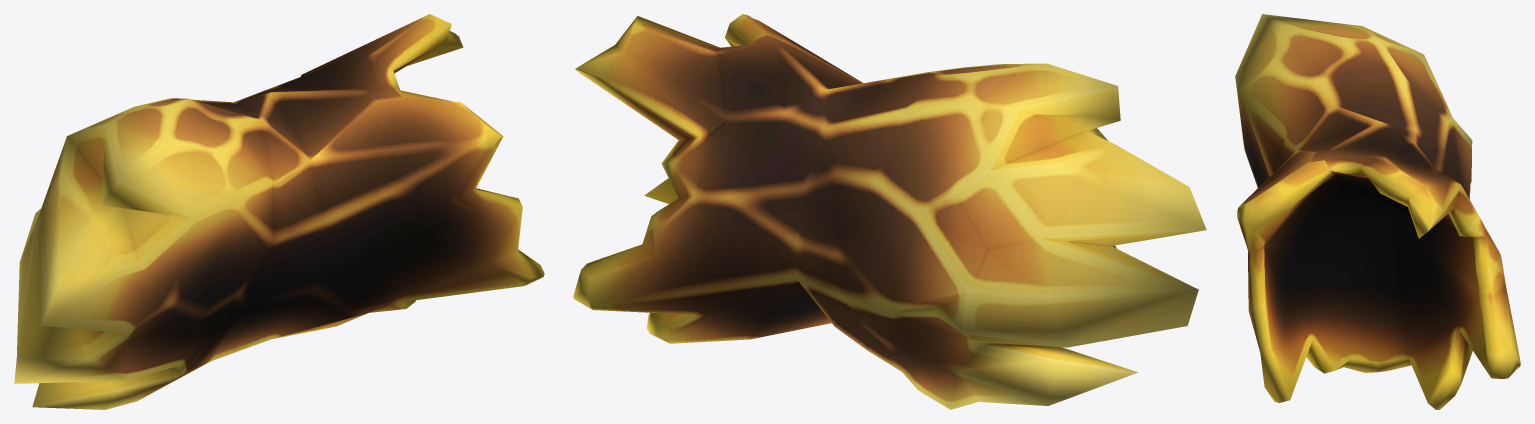
File: item_weaknumgm2501-et05.glb
3 renders of one model, left to right at view 1: azimuth 30°, elevation 25°; view 2: azimuth 150°, elevation 25°; view 3: azimuth 270°, elevation 25°, orthographic. The views are drawn at different scales.
Visible parts, largest first — view 1: FlyffMesh; view 2: FlyffMesh; view 3: FlyffMesh.
Boxes of the visible parts, x1,y1,x2,y2 form: FlyffMesh: (14,14,544,409); FlyffMesh: (573,14,1206,409); FlyffMesh: (1235,14,1520,409).
Bounding box in the file's own units: 0.6683 × 0.3619 × 0.3364.
1 material, 1 textured.
